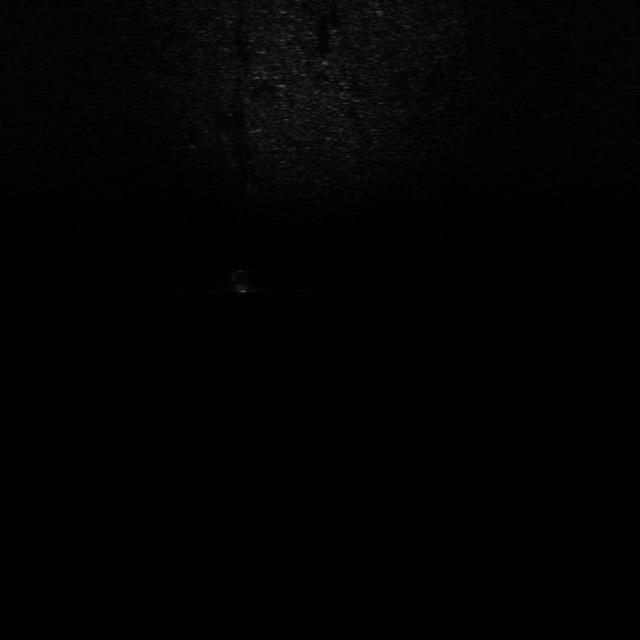human body: (227, 263, 261, 299)
